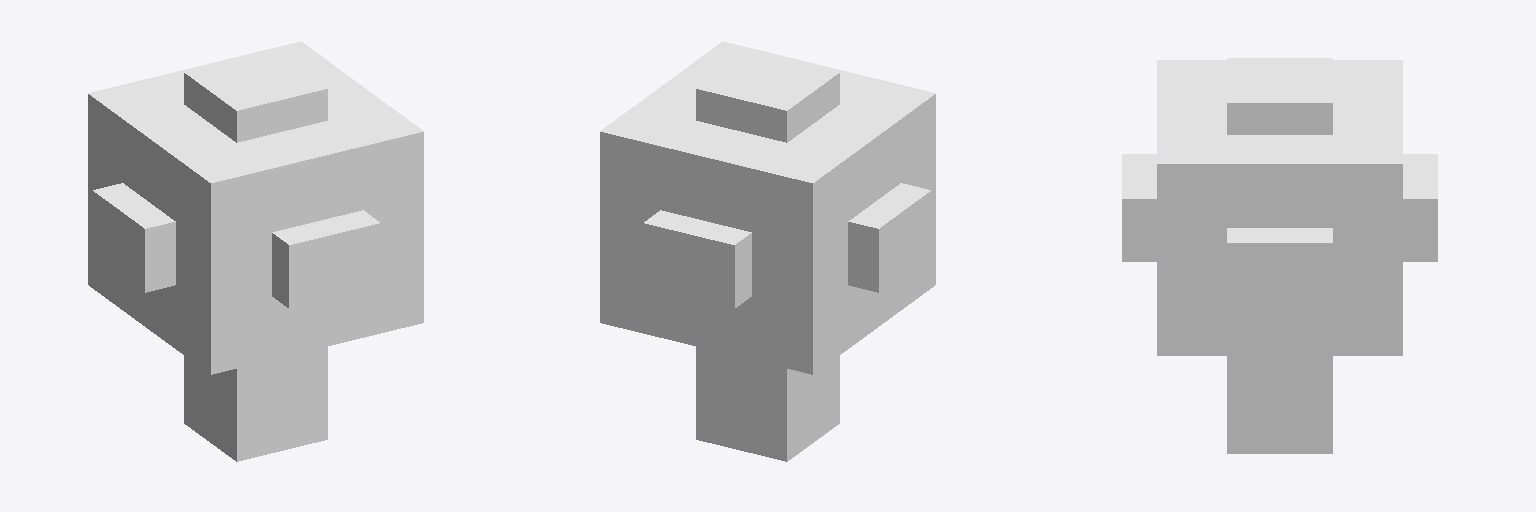
The model's file is tinytree.obj.
3 views of the same model, side by side, from view 1: azimuth 30°, elevation 25°; view 2: azimuth 150°, elevation 25°; view 3: azimuth 270°, elevation 25° (orthographic).
Bounding box in the file's own units: 9 × 11 × 9.